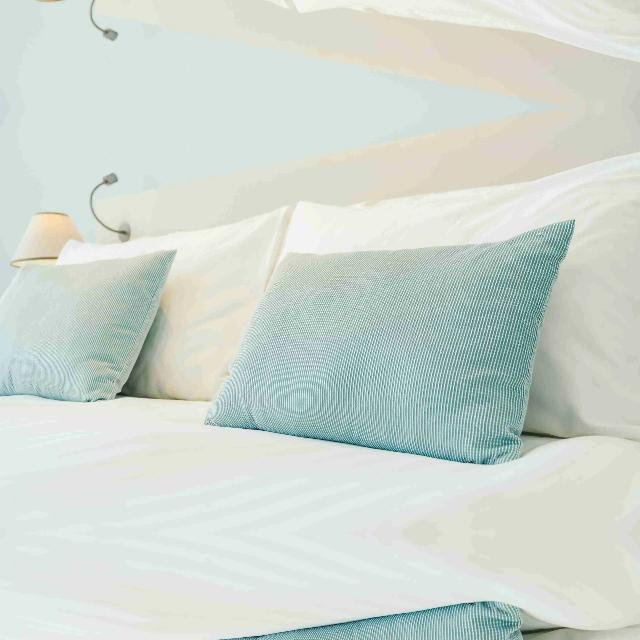pillow: (281, 151, 640, 443), (203, 213, 575, 466), (57, 202, 293, 400), (0, 247, 178, 401), (294, 0, 640, 61)
